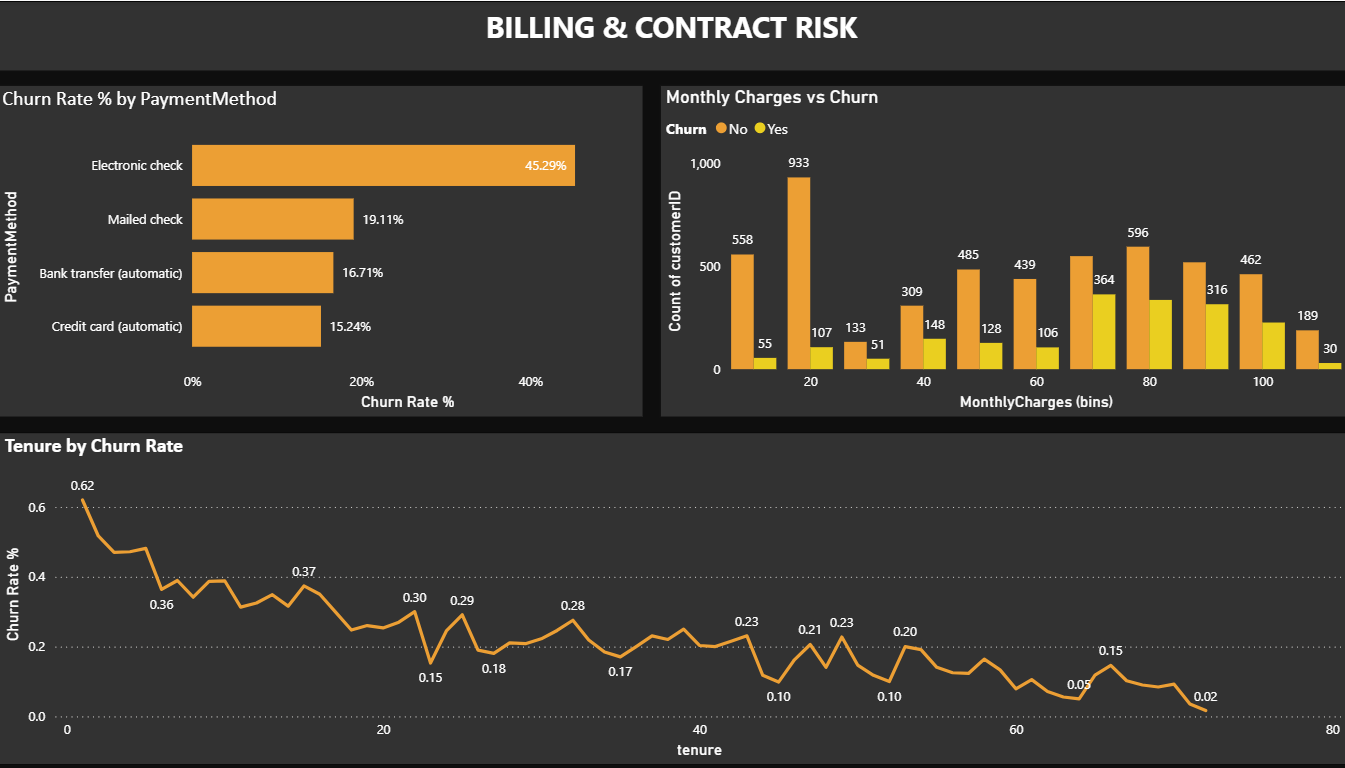

The page's visual inventory and layout, read from the dashboard file:
{"tool":"powerbi","page":{"name":"Page 3","canvas":[1280,720],"ordinal":2},"visuals":[{"type":"textbox","box":[9.5,0,1257.1,65.5],"z":0},{"type":"lineChart","title":" Tenure by Churn Rate ","fields":{"Y":["Customer Churn.Churn Rate %"],"Category":["Customer Churn.tenure"]},"box":[11.9,401.2,1257.1,309.5],"z":1000},{"type":"clusteredBarChart","fields":{"Category":["Customer Churn.PaymentMethod"],"Y":["Customer Churn.Churn Rate %"]},"box":[9.5,77.4,602.4,309.5],"z":2000},{"type":"clusteredColumnChart","title":"Monthly Charges vs Churn","fields":{"Category":["Customer Churn.MonthlyCharges (bins)"],"Y":["CountNonNull(Customer Churn.customerID)"],"Series":["Customer Churn.Churn"]},"box":[626.2,77.4,640.5,309.5],"z":3000}]}

Visuals, with their boxes in screenshot pixels (x1, y1, x2, y2), scaled from the page's 1280x720 canvas onto the 1345x768 screenshot:
textbox: (10, 0, 1331, 70)
" Tenure by Churn Rate " lineChart: (13, 428, 1333, 758)
clusteredBarChart - Customer Churn.PaymentMethod x Customer Churn.Churn Rate %: (10, 83, 643, 413)
"Monthly Charges vs Churn" clusteredColumnChart: (658, 83, 1331, 413)
